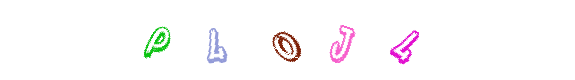4: (176, 0, 256, 80), (332, 0, 412, 80)
J: (247, 0, 327, 80)
O: (247, 0, 327, 80)
P: (117, 0, 197, 80)
